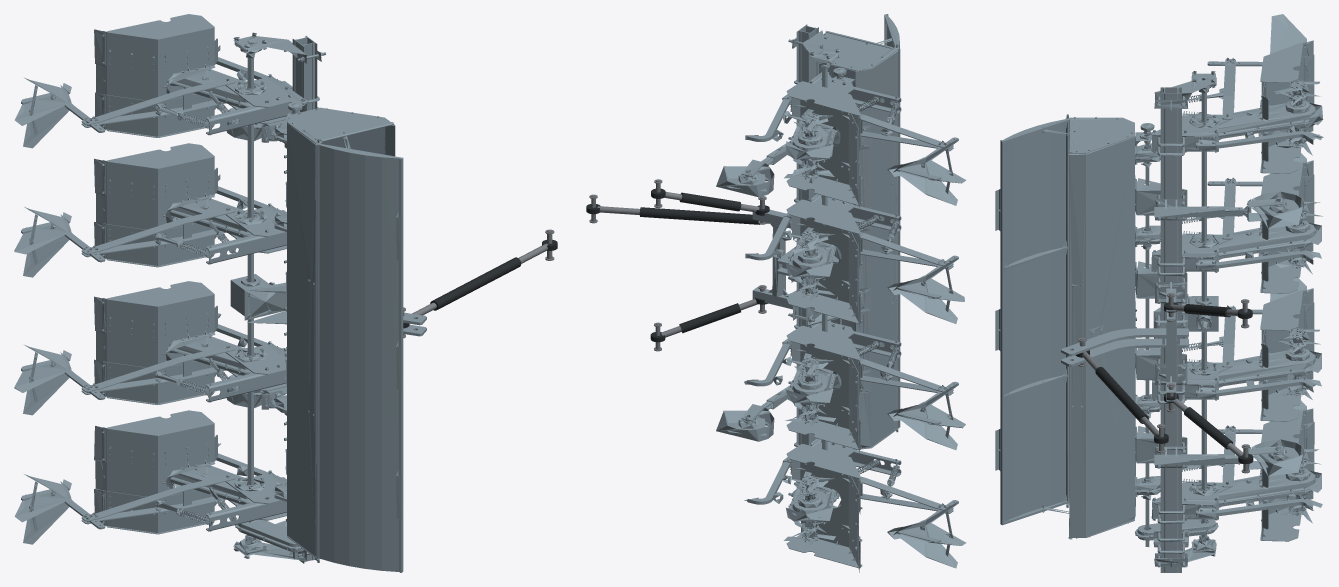
File: implement_inter_row_milling_cutter_visual.obj
3 renders of one model, left to right at view 1: azimuth 30°, elevation 25°; view 2: azimuth 150°, elevation 25°; view 3: azimuth 270°, elevation 25°, orthographic. The views are drawn at different scales.
Visible parts, largest first — view 1: solid_2715, solid_2696, solid_1089, solid_2375, solid_444, solid_1732, solid_2334, solid_1048, solid_403, solid_2698, solid_393, solid_1038 (+38 smaller); view 2: solid_2696, solid_2324, solid_1038, solid_393, solid_2698, solid_1681, solid_443, solid_2374, solid_1088, solid_1731, hitch_top_link_sleeve, solid_2986 (+38 smaller); view 3: solid_2696, solid_2715, solid_0, solid_2718, solid_2698, solid_719, solid_74, solid_2005, solid_4, solid_2634, solid_1362, solid_1731 (+44 smaller).
Boxes of the visible parts, x1,y1,x2,y2 form: solid_2715: (316, 144, 402, 572); solid_2696: (287, 123, 395, 556); solid_1089: (103, 294, 214, 340); solid_2375: (103, 157, 214, 202); solid_444: (103, 424, 214, 469); solid_1732: (103, 27, 214, 73); solid_2334: (103, 223, 214, 265); solid_1048: (102, 361, 214, 403); solid_403: (103, 490, 214, 532); solid_2698: (287, 107, 394, 143); solid_393: (103, 435, 217, 507); solid_1038: (103, 305, 217, 384); solid_2696: (819, 50, 898, 447); solid_2324: (792, 215, 858, 311); solid_1038: (792, 342, 858, 437); solid_393: (792, 460, 858, 556); solid_2698: (823, 31, 898, 70); solid_1681: (792, 97, 858, 193); solid_443: (786, 444, 860, 478); solid_2374: (786, 199, 860, 234); solid_1088: (786, 325, 860, 360); solid_1731: (786, 81, 860, 115); hitch_top_link_sleeve: (639, 207, 759, 224); solid_2986: (716, 410, 774, 441); solid_2696: (1069, 136, 1135, 537); solid_2715: (1000, 118, 1066, 524); solid_0: (1164, 87, 1178, 572); solid_2718: (1001, 119, 1069, 525); solid_2698: (1068, 117, 1134, 153); solid_719: (1196, 348, 1320, 383); solid_74: (1195, 468, 1319, 503); solid_2005: (1195, 220, 1319, 255); solid_4: (1160, 92, 1164, 572); solid_2634: (1201, 92, 1206, 540); solid_1362: (1198, 100, 1315, 135); solid_1731: (1260, 42, 1303, 82).
Bounding box in the file's own units: 2.9 × 3 × 1.87.
